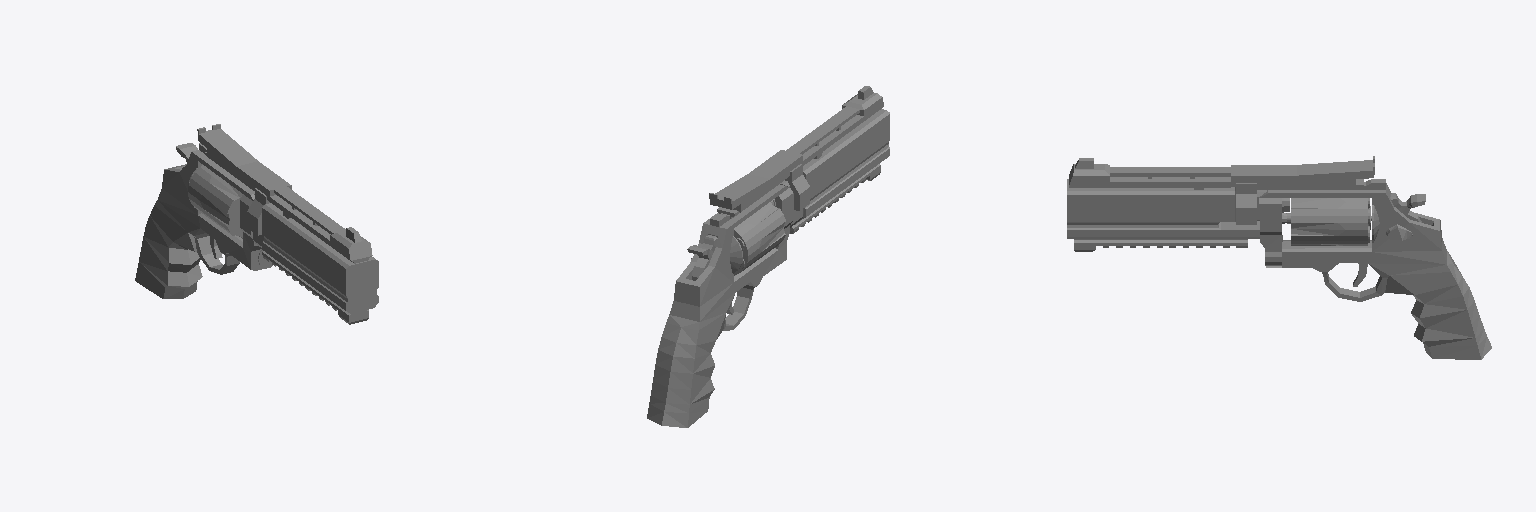
The model's file is Revolver.obj.
The picture shows the model from 3 angles: view 1: azimuth 30°, elevation 25°; view 2: azimuth 150°, elevation 25°; view 3: azimuth 270°, elevation 25°; orthographic projection.
Visible parts, largest first — view 1: SK_Revolver_1st; view 2: SK_Revolver_1st; view 3: SK_Revolver_1st.
Boxes of the visible parts, x1=… form: SK_Revolver_1st: x1=135, y1=124, x2=378, y2=324; SK_Revolver_1st: x1=647, y1=86, x2=889, y2=427; SK_Revolver_1st: x1=1067, y1=156, x2=1491, y2=359.
Bounding box in the file's own units: 6.13 × 23.35 × 46.63.